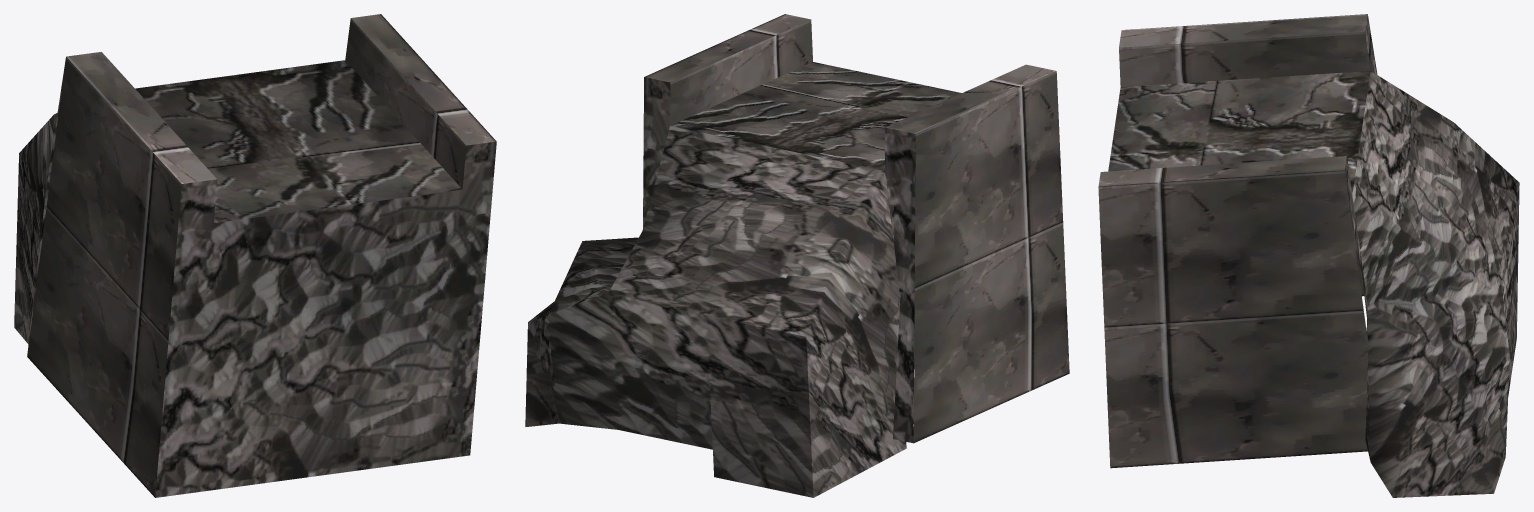
The model's file is INST_SM_DEBRIS_BLOCK_SMALLF.fbx.
3 views of the same model, side by side, from view 1: azimuth 30°, elevation 25°; view 2: azimuth 150°, elevation 25°; view 3: azimuth 270°, elevation 25° (orthographic). The views are drawn at different scales.
Visible parts, largest first — view 1: INST_SM_DEBRIS_BLOCK_SMALLF; view 2: INST_SM_DEBRIS_BLOCK_SMALLF; view 3: INST_SM_DEBRIS_BLOCK_SMALLF.
Boxes of the visible parts, x1,y1,x2,y2 form: INST_SM_DEBRIS_BLOCK_SMALLF: (14, 14, 496, 497); INST_SM_DEBRIS_BLOCK_SMALLF: (525, 14, 1069, 497); INST_SM_DEBRIS_BLOCK_SMALLF: (1098, 14, 1519, 497).
Bounding box in the file's own units: 36050 × 30983 × 35336.
3 materials, 3 textured.
